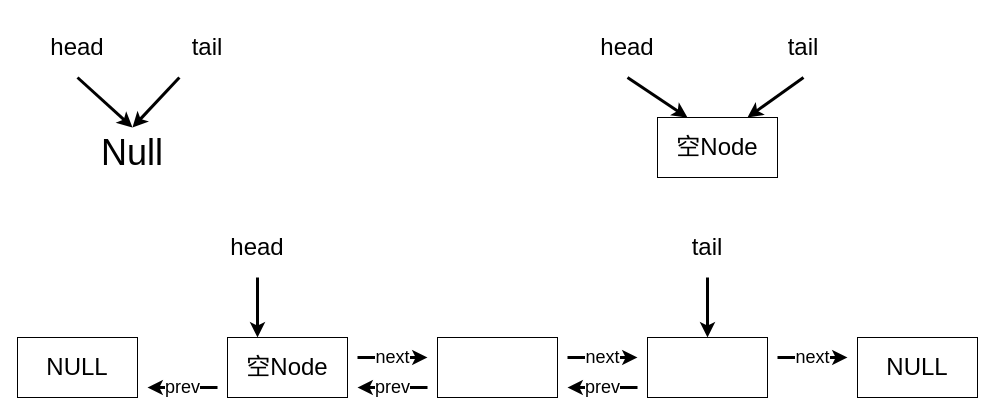
The diagram is 995 pixels wide and 415 high, and some of its shapes have lost their labels. Here are the shapes that lost their labels. From the top down, the box of each, then its label:
(436, 336, 558, 398): Node1 （thread 1）
(646, 336, 768, 398): Node2 （thread 2）
